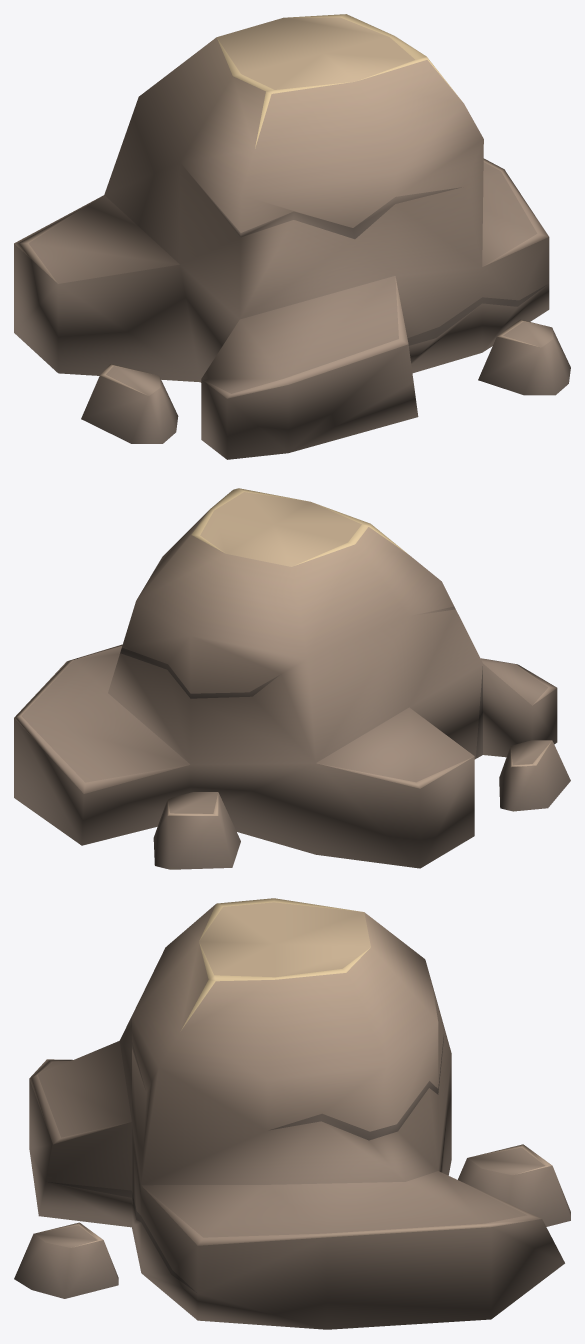
File: rocksSm_B.fbx
3 renders of one model, top to bottom at view 1: azimuth 30°, elevation 25°; view 2: azimuth 150°, elevation 25°; view 3: azimuth 270°, elevation 25°, orthographic. The views are drawn at different scales.
Parts seen in each view (by area): view 1: rocksSm_B; view 2: rocksSm_B; view 3: rocksSm_B.
Boxes of the visible parts, left/top/right/bottom form: rocksSm_B: left=14, top=14, right=570, bottom=459; rocksSm_B: left=14, top=488, right=570, bottom=869; rocksSm_B: left=14, top=898, right=570, bottom=1329.
Bounding box in the file's own units: 184 × 100 × 179.
